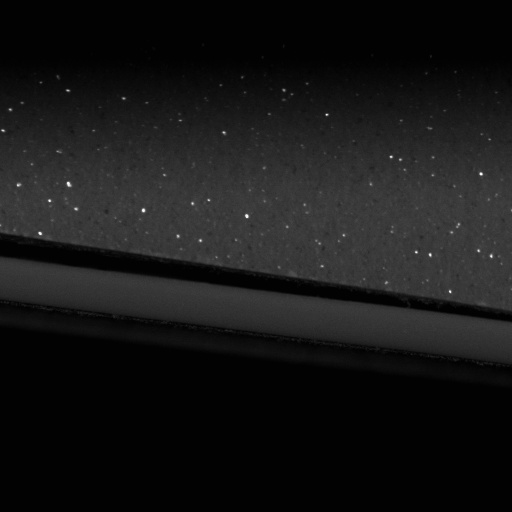kaijiao: (0, 226, 511, 366)
